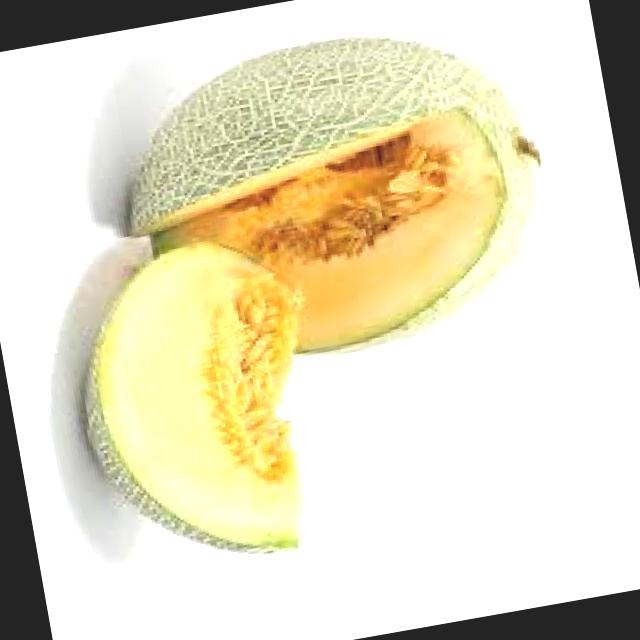cantaloupe: (98, 7, 568, 387), (52, 225, 344, 580)
